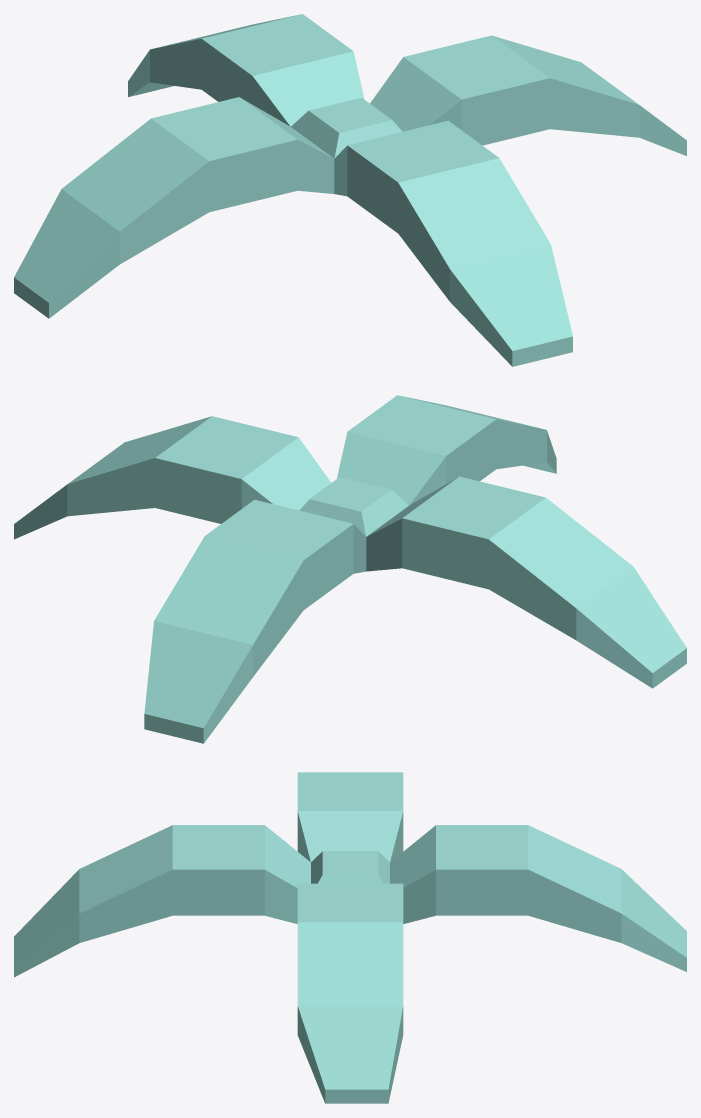
3 renders of one model, top to bottom at view 1: azimuth 30°, elevation 25°; view 2: azimuth 150°, elevation 25°; view 3: azimuth 270°, elevation 25°, orthographic. The views are drawn at different scales.
Visible parts, largest first — view 1: Group 142; view 2: Group 142; view 3: Group 142.
Part boxes in pixels (x1=…): Group 142: x1=14, y1=14, x2=686, y2=366; Group 142: x1=14, y1=395, x2=686, y2=743; Group 142: x1=14, y1=772, x2=686, y2=1103.
Size of the model in its own units: 232 by 43.37 by 232.
